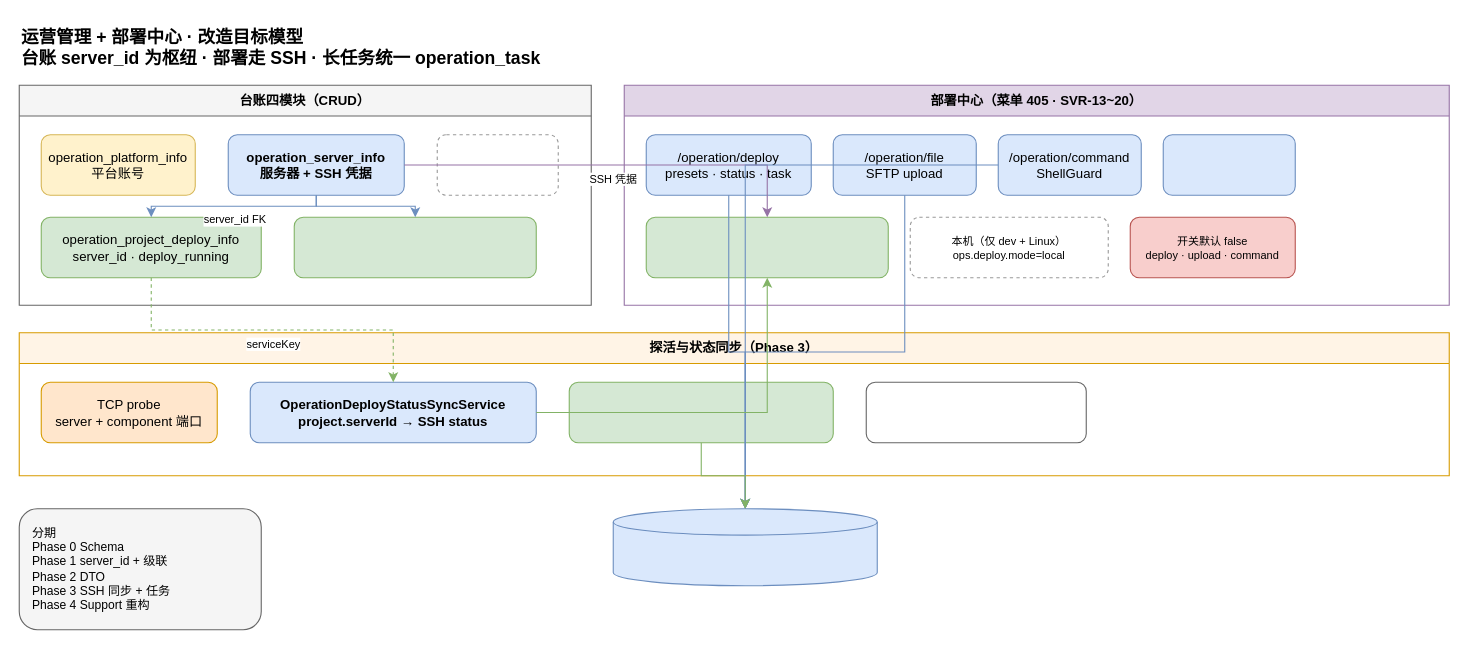
Some shapes in this 1469 by 649 pixel diagram are drawn without their labels. The shapes that lost their labels are listed below. From the top down, each one's centre as x and y in pixels, then its label:
[497,164]: N:N server_project server_component
[1228,164]: /operation/task 轮询 · 列表
[414,247]: operation_component_deploy_info + server_id（Phase 1）
[766,247]: SSH → moli-service.sh start/stop/restart/status
[700,412]: POST /health/probe-all → operation_task (health_probe)
[975,412]: OperationHealthProbeScheduler cron ops.health.*
[744,547]: operation_task deploy | upload | command | health_probe
